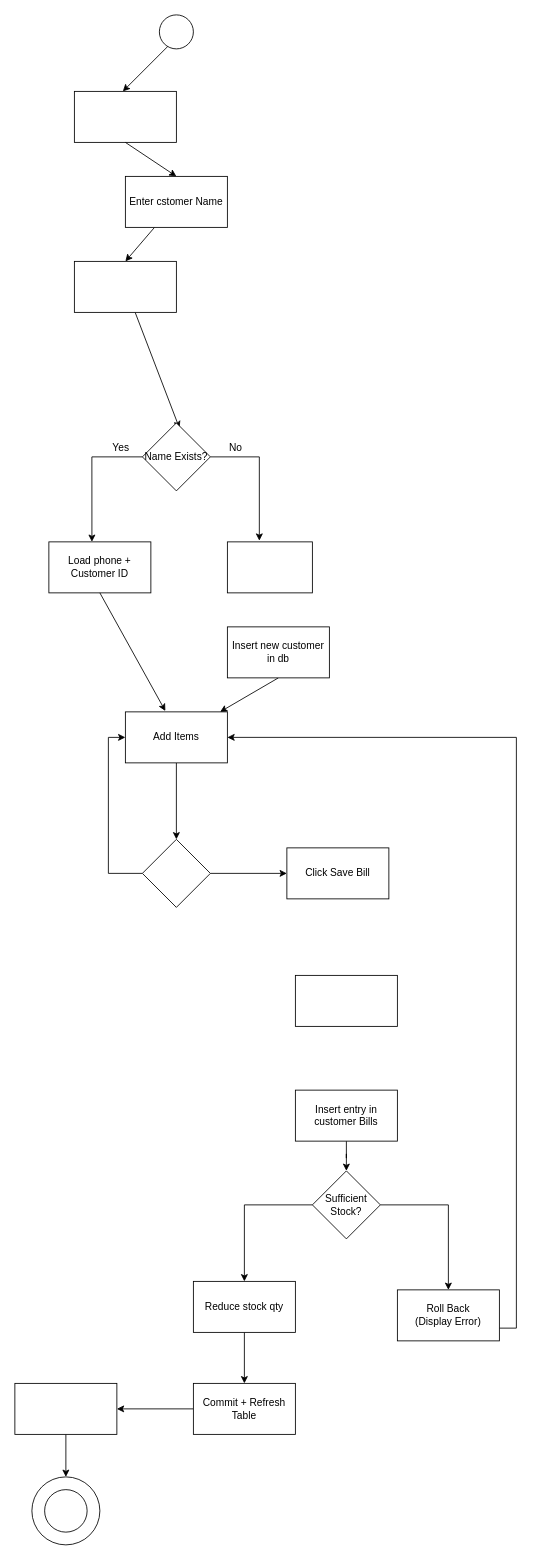
Some shapes in this 538 by 1560 pixel diagram are drawn without their labels. The shapes that lost their labels are listed below. From the top down, each one's centre as x and y in pixels, then its label:
point (125, 116): Click 'Add'
point (125, 286): Click check
point (269, 567): Enter phone, and details
point (176, 873): Add Another Item
point (346, 1000): Begin Transaction (DB)
point (65, 1408): Bill saved
